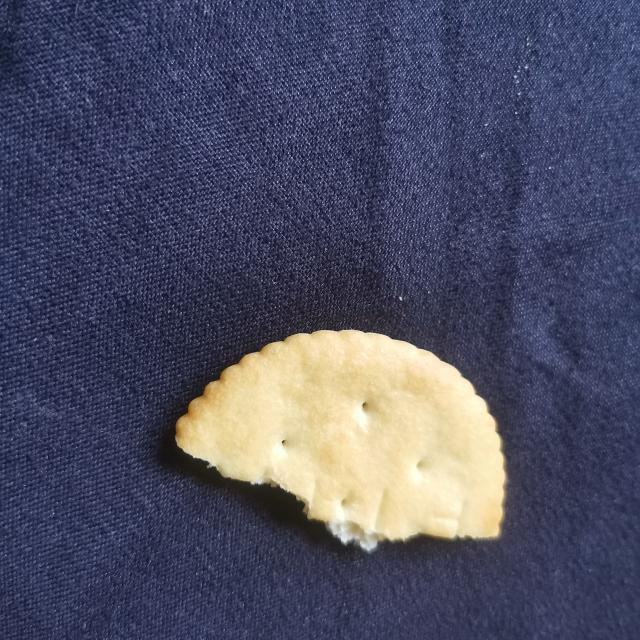Broken: (174, 327, 507, 552)
